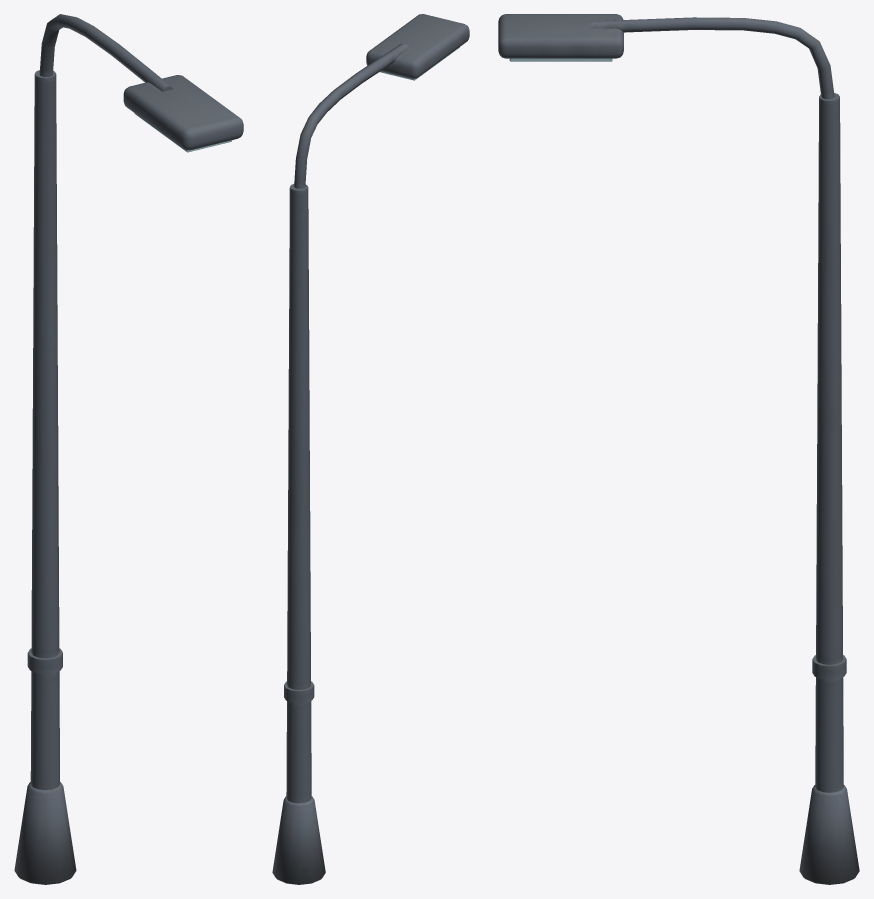
Rendered from street_lamp.glb.
The picture shows the model from 3 angles, left to right: view 1: azimuth 30°, elevation 25°; view 2: azimuth 150°, elevation 25°; view 3: azimuth 270°, elevation 25°; orthographic projection. The views are drawn at different scales.
Visible parts, largest first — view 1: street_lamp; view 2: street_lamp; view 3: street_lamp.
Boxes of the visible parts, <box> form: street_lamp: <box>14,14,243,884</box>; street_lamp: <box>272,14,469,884</box>; street_lamp: <box>498,14,859,884</box>.
Bounding box in the file's own units: 0.36 × 4.96 × 1.9.
2 materials, 1 textured.
